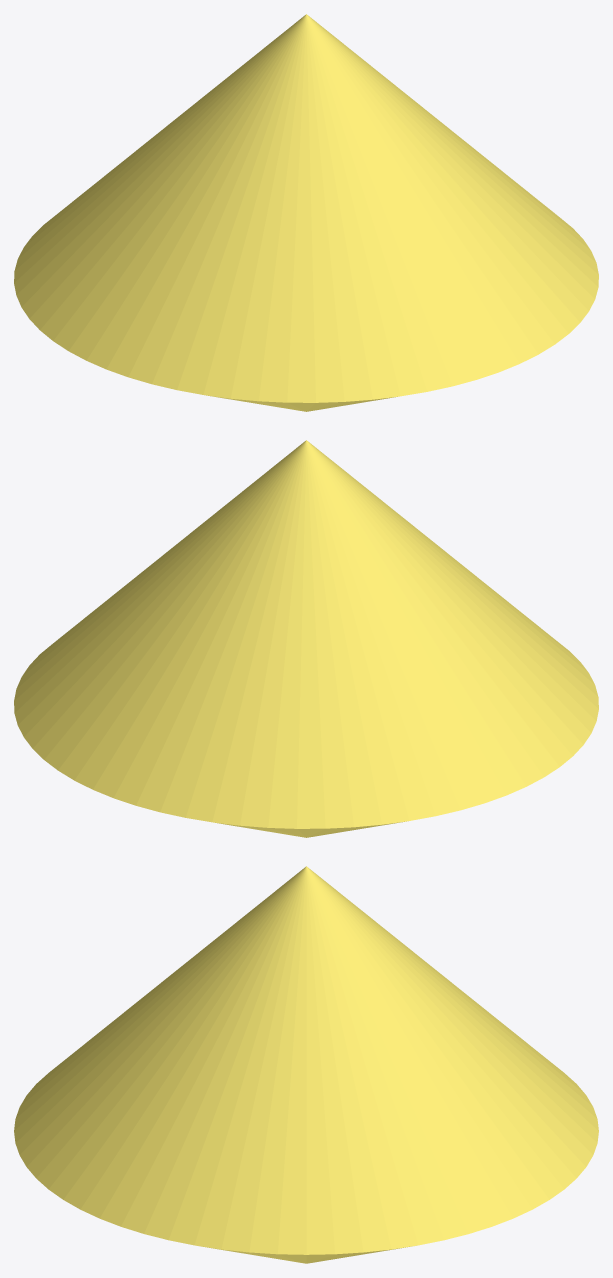
The model's file is diamond.glb.
The picture shows the model from 3 angles, top to bottom: view 1: azimuth 30°, elevation 25°; view 2: azimuth 150°, elevation 25°; view 3: azimuth 270°, elevation 25°; orthographic projection.
Bounding box in the file's own units: 24 × 18 × 24.
